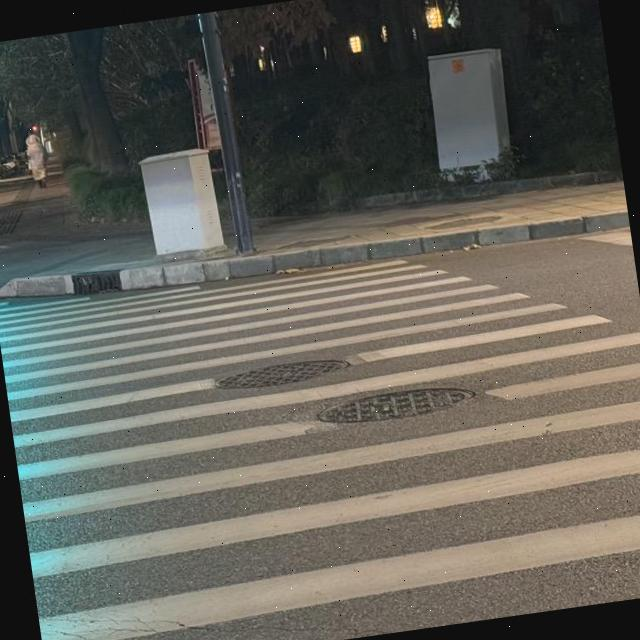curb: (0, 211, 629, 297), (336, 171, 623, 212)
